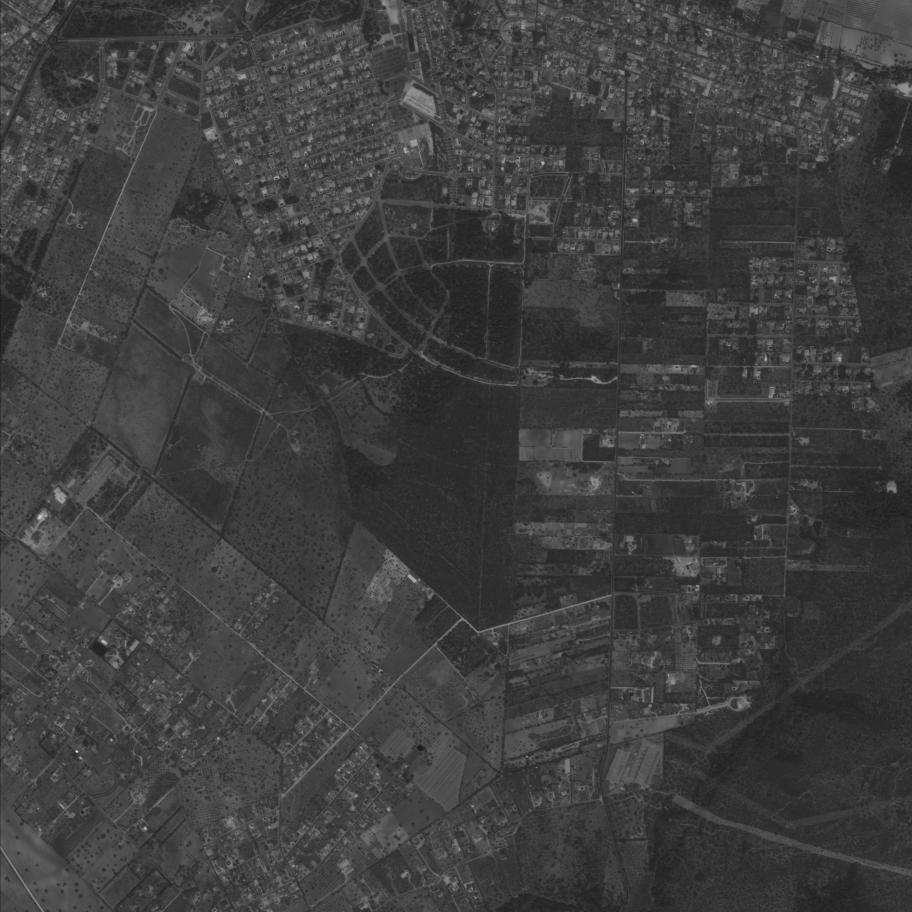storage-tank: (670, 679, 676, 685)
